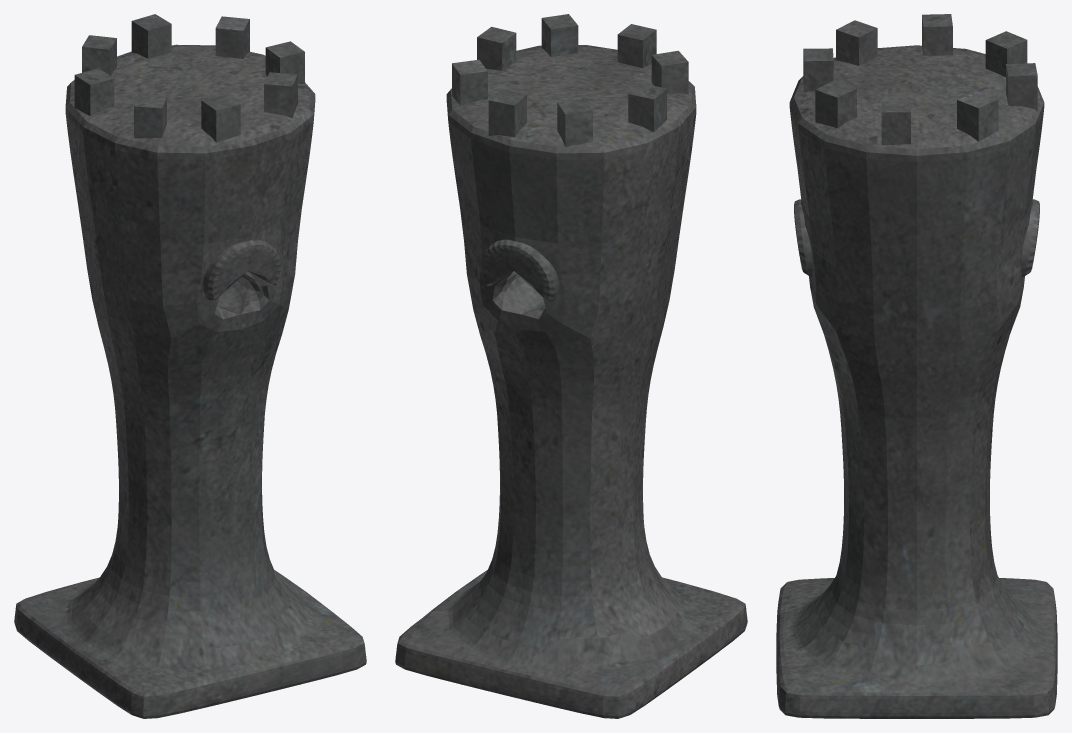
Rendered from temple_stick.gltf.
3 views of the same model, side by side, from view 1: azimuth 30°, elevation 25°; view 2: azimuth 150°, elevation 25°; view 3: azimuth 270°, elevation 25° (orthographic). The views are drawn at different scales.
Parts seen in each view (by area): view 1: Cube; view 2: Cube; view 3: Cube.
Part boxes in pixels (x1=…): Cube: x1=14, y1=14, x2=366, y2=718; Cube: x1=395, y1=14, x2=747, y2=718; Cube: x1=776, y1=14, x2=1057, y2=718.
Bounding box in the file's own units: 1.99 × 4.69 × 1.99.
Materials: 1 (1 with a texture image).
